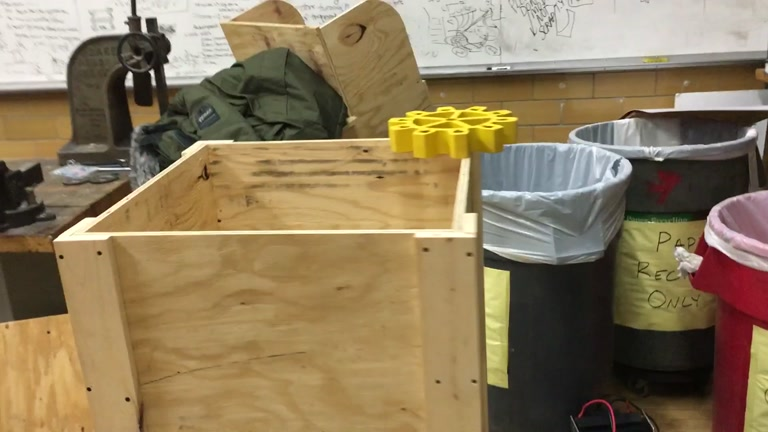gear: (386, 104, 518, 159)
